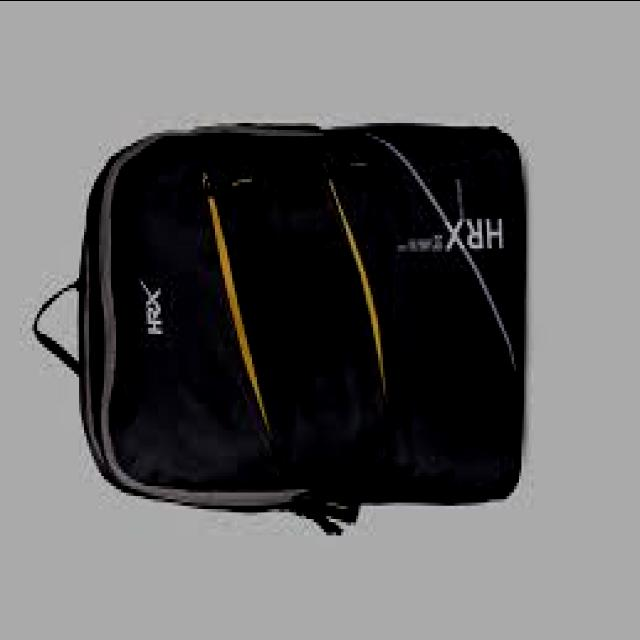backpack: (31, 123, 525, 539)
